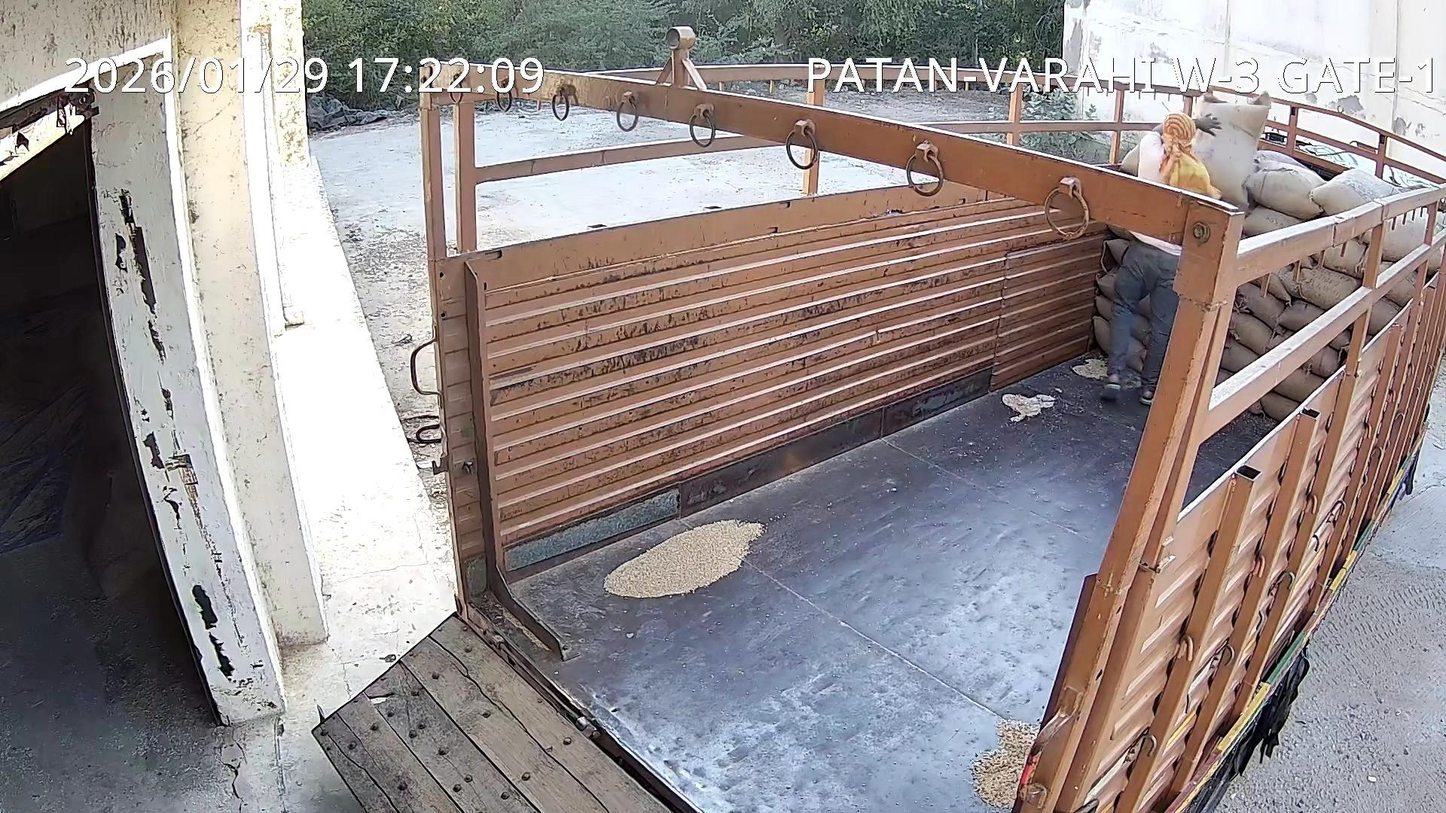Sack: (1194, 93, 1269, 207)
